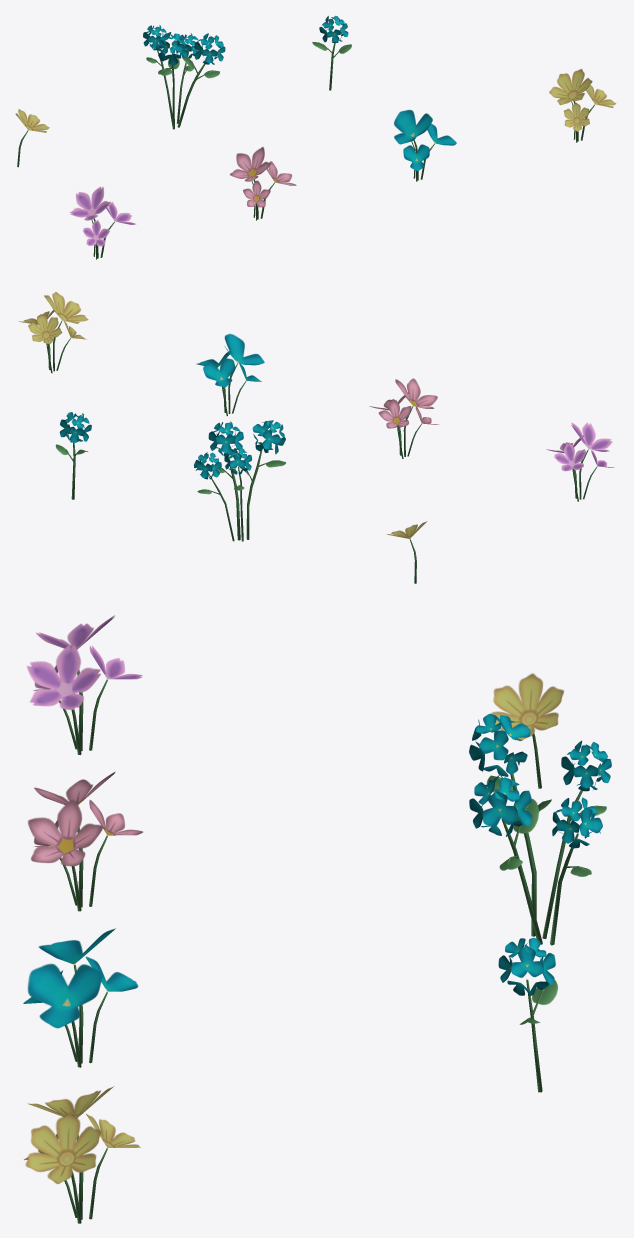
Rendered from Flowers.glb.
The picture shows the model from 3 angles, top to bottom: view 1: azimuth 30°, elevation 25°; view 2: azimuth 150°, elevation 25°; view 3: azimuth 270°, elevation 25°; orthographic projection. The views are drawn at different scales.
Visible parts, largest first — view 1: Flower_1_Clump, Flower_2_Clump, Flower_3_Clump, Flower_4_Clump, Flower_5_Clump, Flower_1, Flower_2; view 2: Flower_1_Clump, Flower_2_Clump, Flower_3_Clump, Flower_4_Clump, Flower_5_Clump, Flower_1; view 3: Flower_1_Clump, Flower_2_Clump, Flower_3_Clump, Flower_4_Clump, Flower_5_Clump, Flower_2, Flower_1.
Part boxes in pixels (bbox=[...]): Flower_1_Clump: bbox=[143, 25, 225, 129]; Flower_2_Clump: bbox=[549, 69, 616, 142]; Flower_3_Clump: bbox=[394, 110, 456, 181]; Flower_4_Clump: bbox=[230, 147, 296, 220]; Flower_5_Clump: bbox=[69, 186, 135, 259]; Flower_1: bbox=[312, 15, 351, 90]; Flower_2: bbox=[15, 109, 49, 167]; Flower_1_Clump: bbox=[194, 420, 286, 541]; Flower_2_Clump: bbox=[19, 292, 88, 373]; Flower_3_Clump: bbox=[196, 333, 264, 415]; Flower_4_Clump: bbox=[369, 378, 438, 458]; Flower_5_Clump: bbox=[546, 422, 614, 501]; Flower_1: bbox=[55, 412, 91, 499]; Flower_1_Clump: bbox=[469, 713, 611, 945]; Flower_2_Clump: bbox=[24, 1086, 140, 1223]; Flower_3_Clump: bbox=[23, 928, 138, 1067]; Flower_4_Clump: bbox=[28, 772, 142, 911]; Flower_5_Clump: bbox=[27, 615, 142, 754]; Flower_2: bbox=[491, 673, 563, 788]; Flower_1: bbox=[498, 937, 557, 1092].
Bounding box in the file's own units: 3.59 × 0.6742 × 1.71.
1 material, 1 textured.
